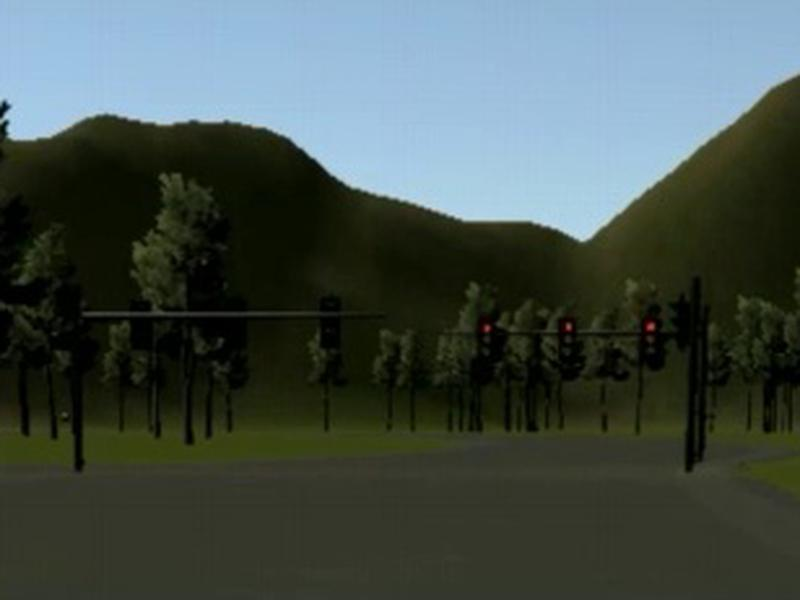Red: (478, 322, 495, 362), (560, 319, 577, 359), (642, 320, 659, 360)
